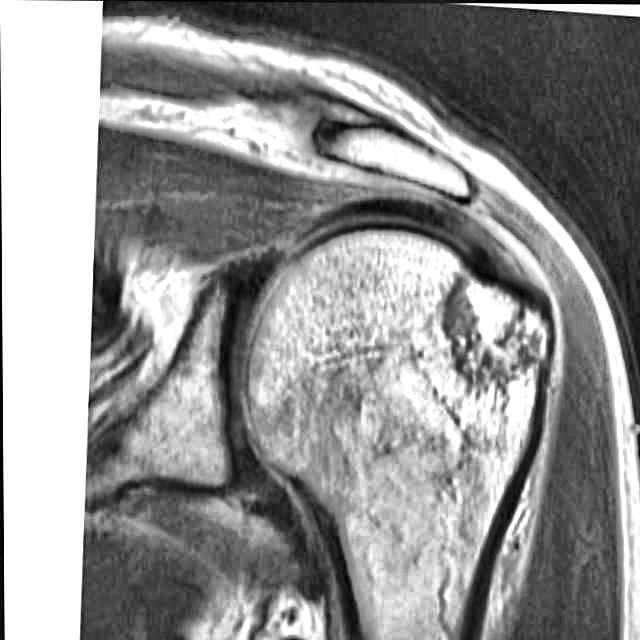Comminuted: (435, 259, 556, 378)
